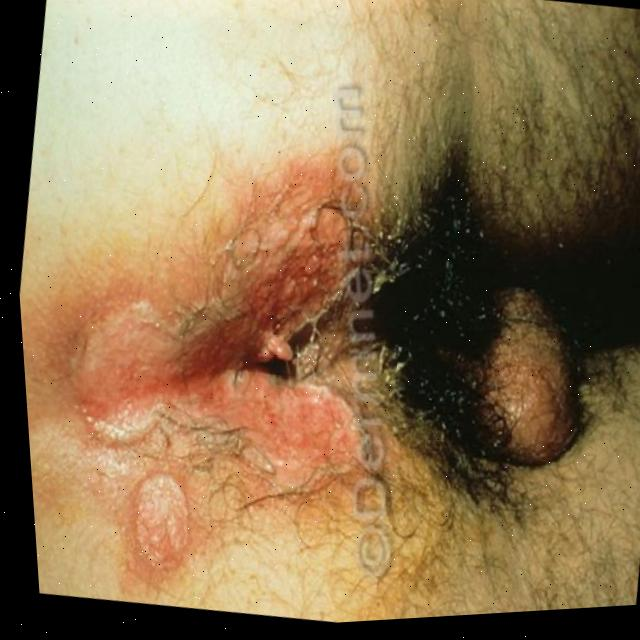Shingles: (21, 299, 211, 582)
